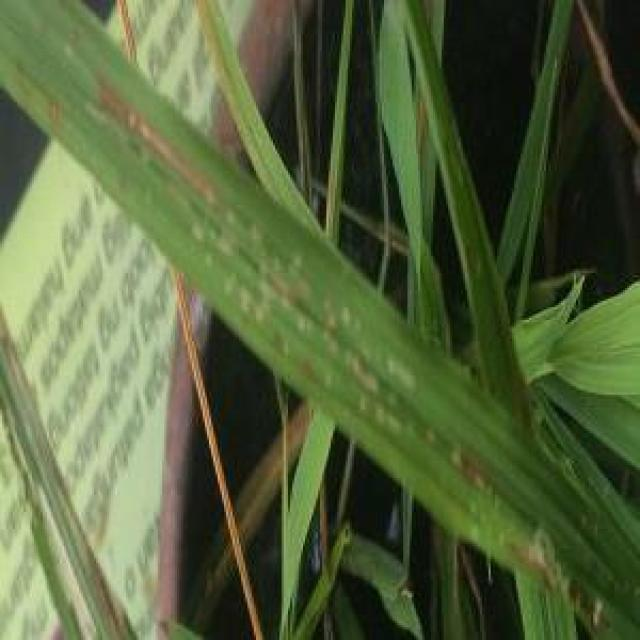Brown_Spot: (100, 89, 208, 195), (445, 449, 497, 493)
